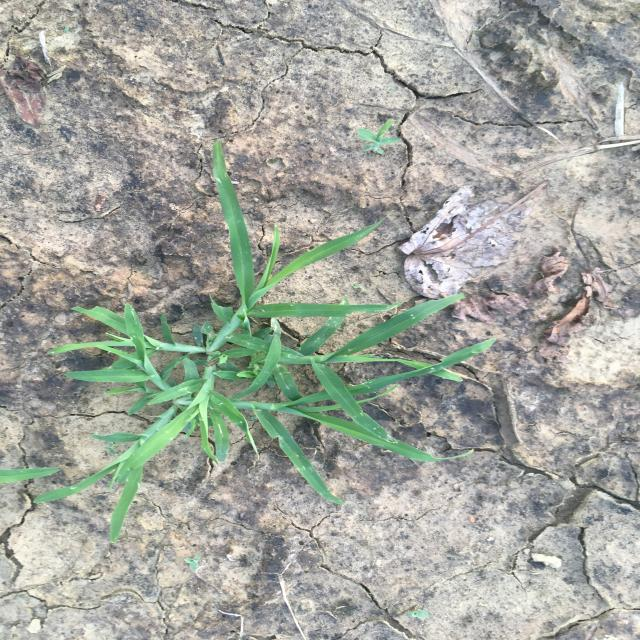Goosegrass: (31, 137, 498, 544)
